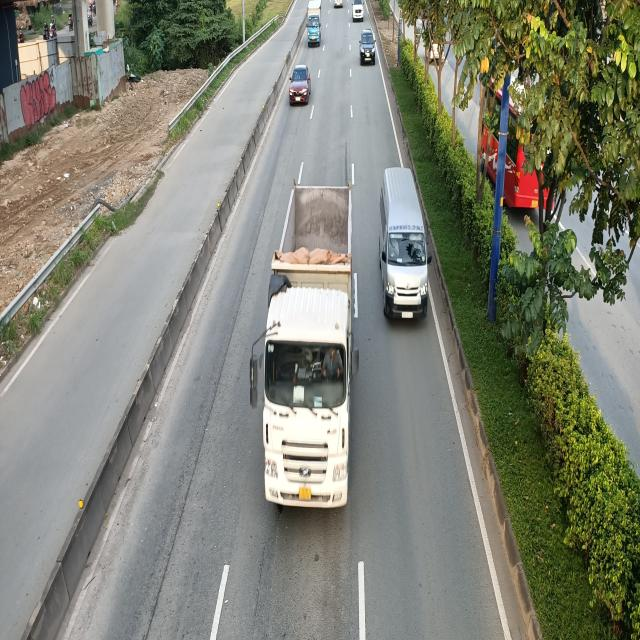car: (288, 66, 310, 106), (358, 29, 376, 65)
container: (246, 182, 353, 509)
truck: (307, 1, 323, 45)
van: (378, 167, 430, 320)
